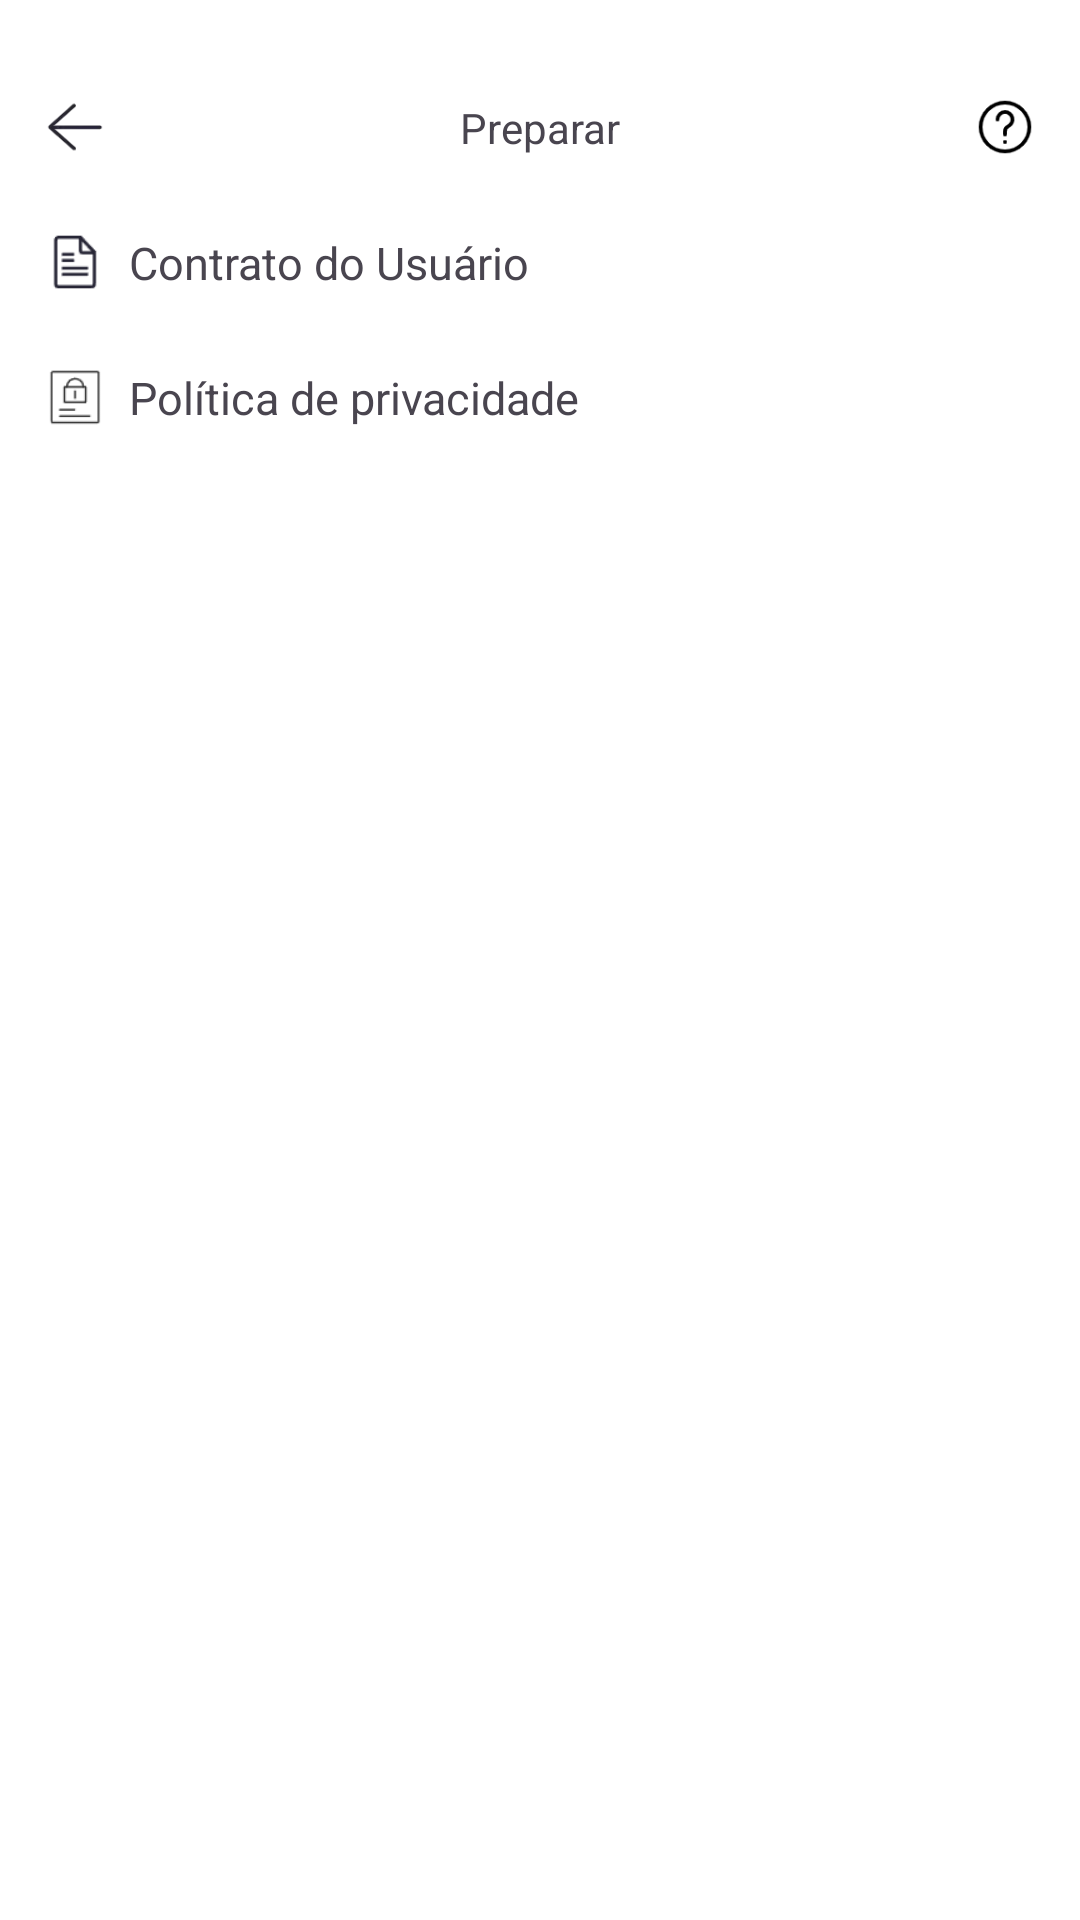

Icon bounding boxes for this 1080×1920 phone screenshot, format rect(x1, y1, x2, y2):
fanhui: rect(48, 103, 102, 151)
wenhao: rect(978, 100, 1032, 154)
yinsi: rect(50, 370, 100, 424)
